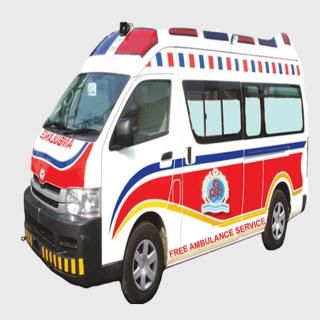Ambulance: (12, 17, 314, 306)
